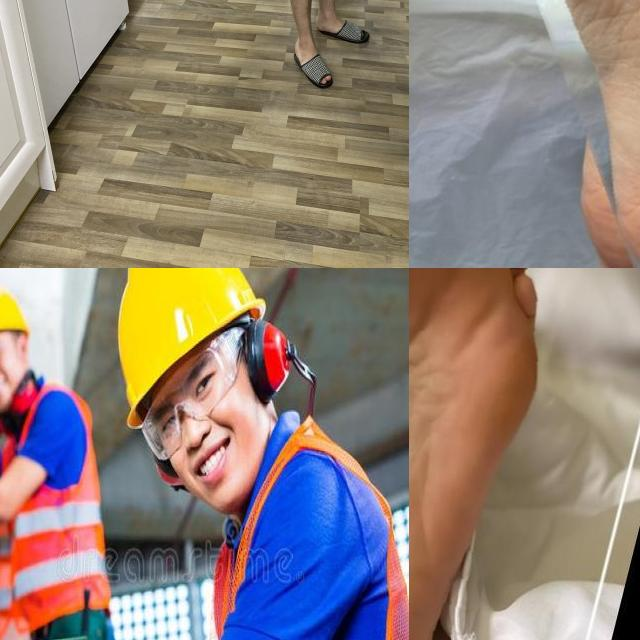Barefoots: (409, 268, 596, 640), (492, 0, 640, 268)
Ear-protection: (243, 311, 298, 404), (0, 372, 42, 428)
Sandals: (292, 30, 337, 90), (314, 5, 372, 44)
glasses: (130, 329, 251, 452)
head_helmet: (119, 268, 267, 427), (0, 280, 31, 353)
person: (101, 268, 409, 640), (0, 271, 139, 640)
vest: (211, 416, 409, 640), (0, 380, 114, 640)
